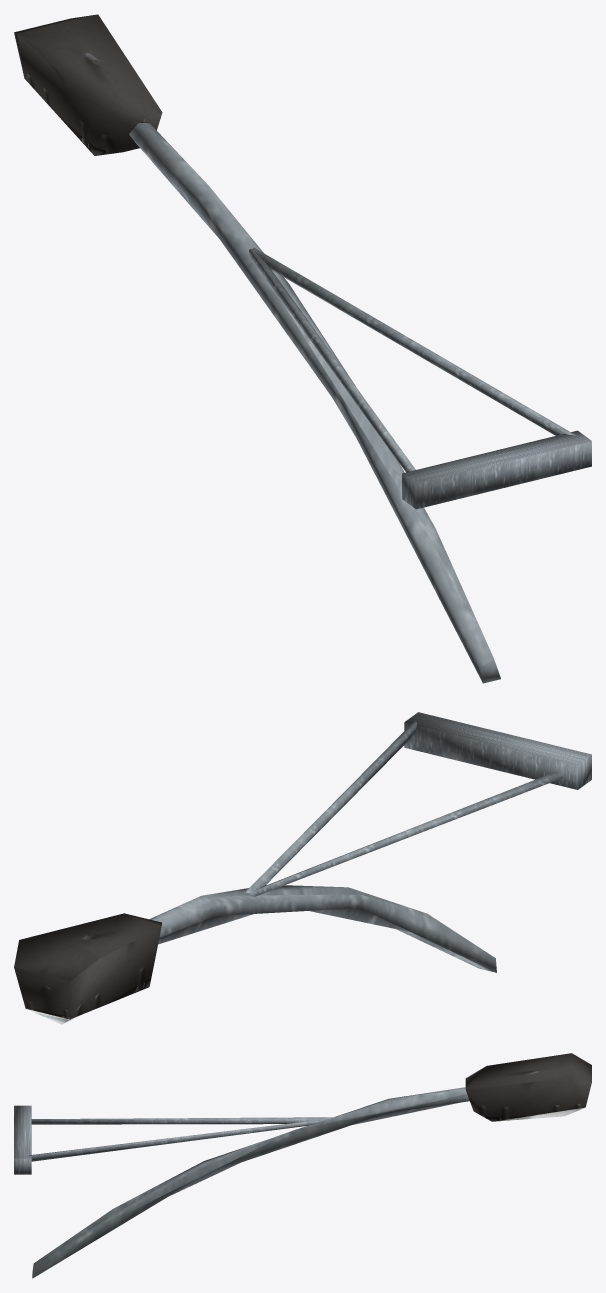
File: streetSconce_3.fbx
The picture shows the model from 3 angles, top to bottom: view 1: azimuth 30°, elevation 25°; view 2: azimuth 150°, elevation 25°; view 3: azimuth 270°, elevation 25°; orthographic projection. The views are drawn at different scales.
Visible parts, largest first — view 1: streetlightA0; view 2: streetlightA0; view 3: streetlightA0, lens0.
Boxes of the visible parts, x1,y1,x2,y2 form: streetlightA0: (14,14,591,683); streetlightA0: (14,712,591,1019); streetlightA0: (14,1053,591,1278); lens0: (494,1107,584,1121).
Bounding box in the file's own units: 0.759 × 1.4 × 3.48.
